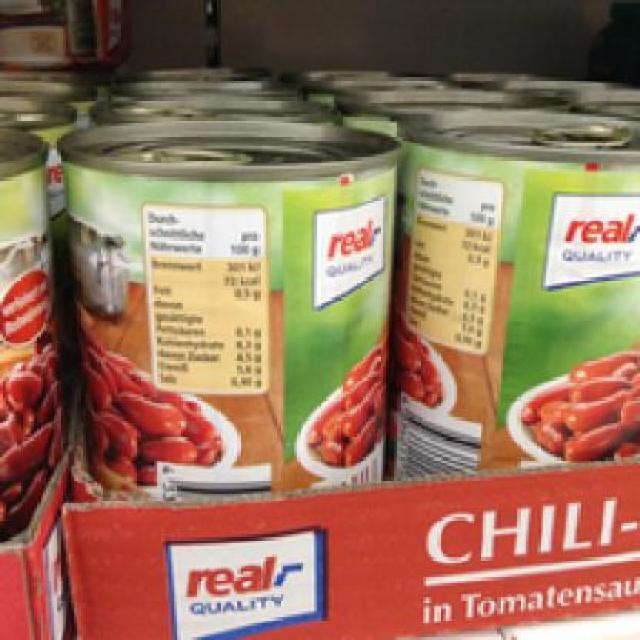Beans: (51, 120, 392, 520), (394, 106, 637, 494)
